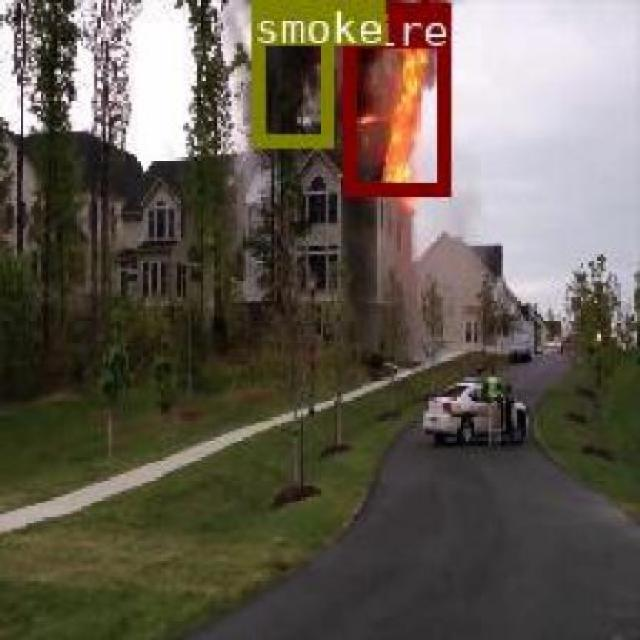Fire: (342, 0, 446, 194)
Smoke: (250, 0, 330, 146)
